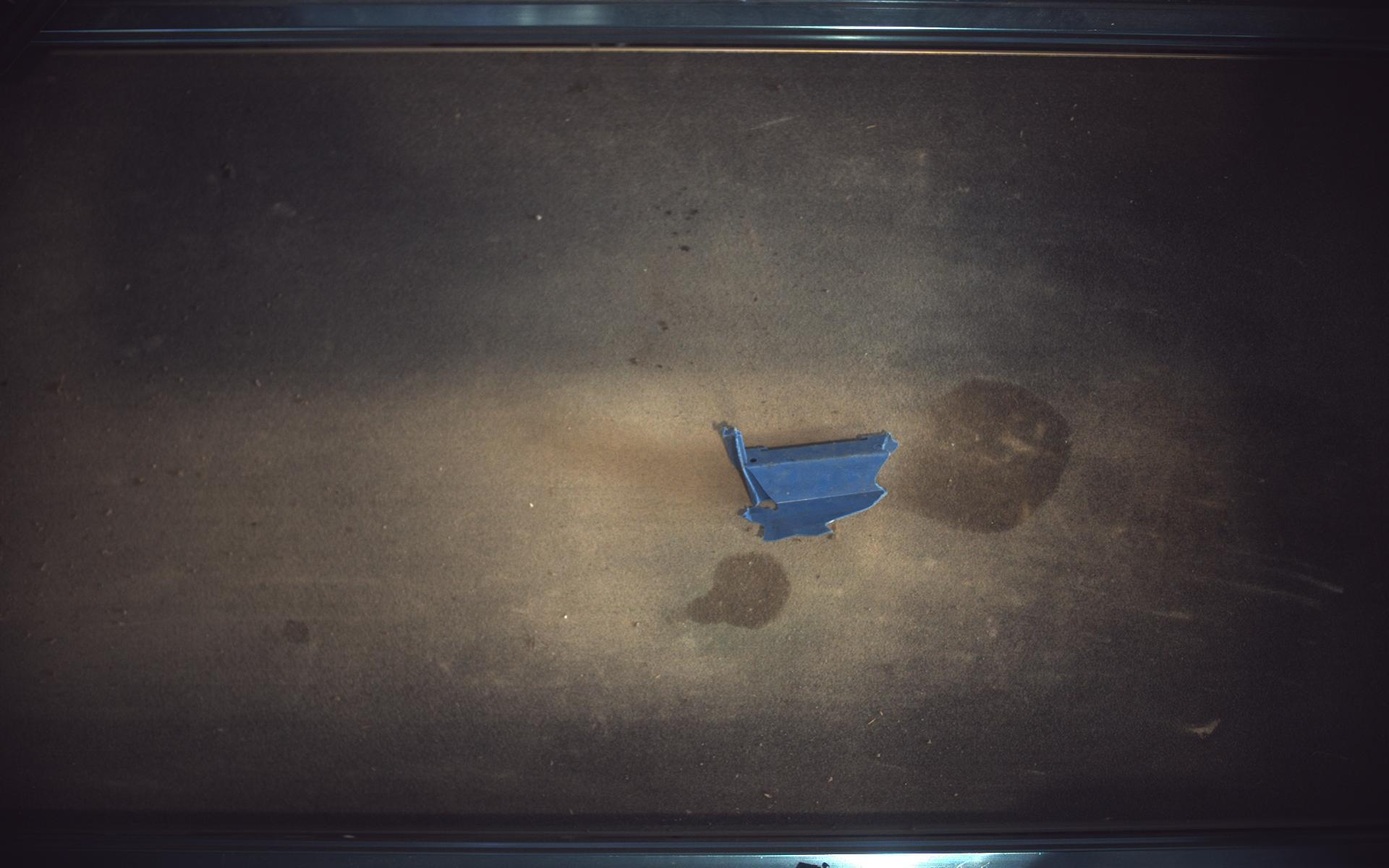plastic: (716, 422, 900, 542)
